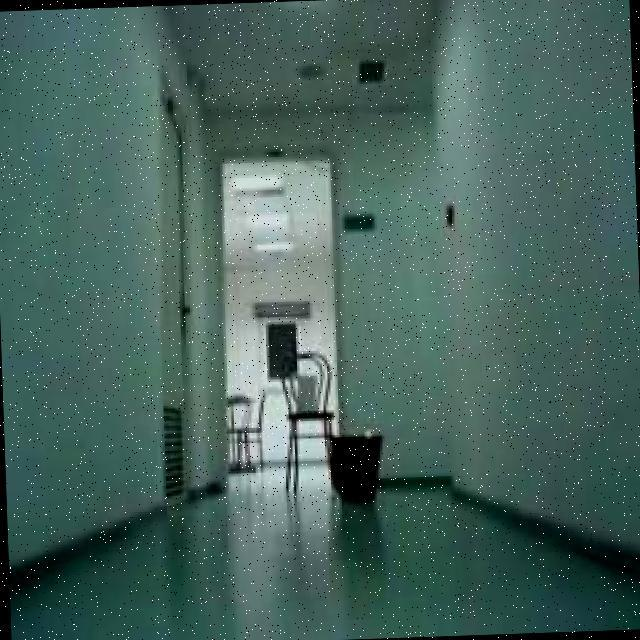Fire: (364, 423, 375, 443)
